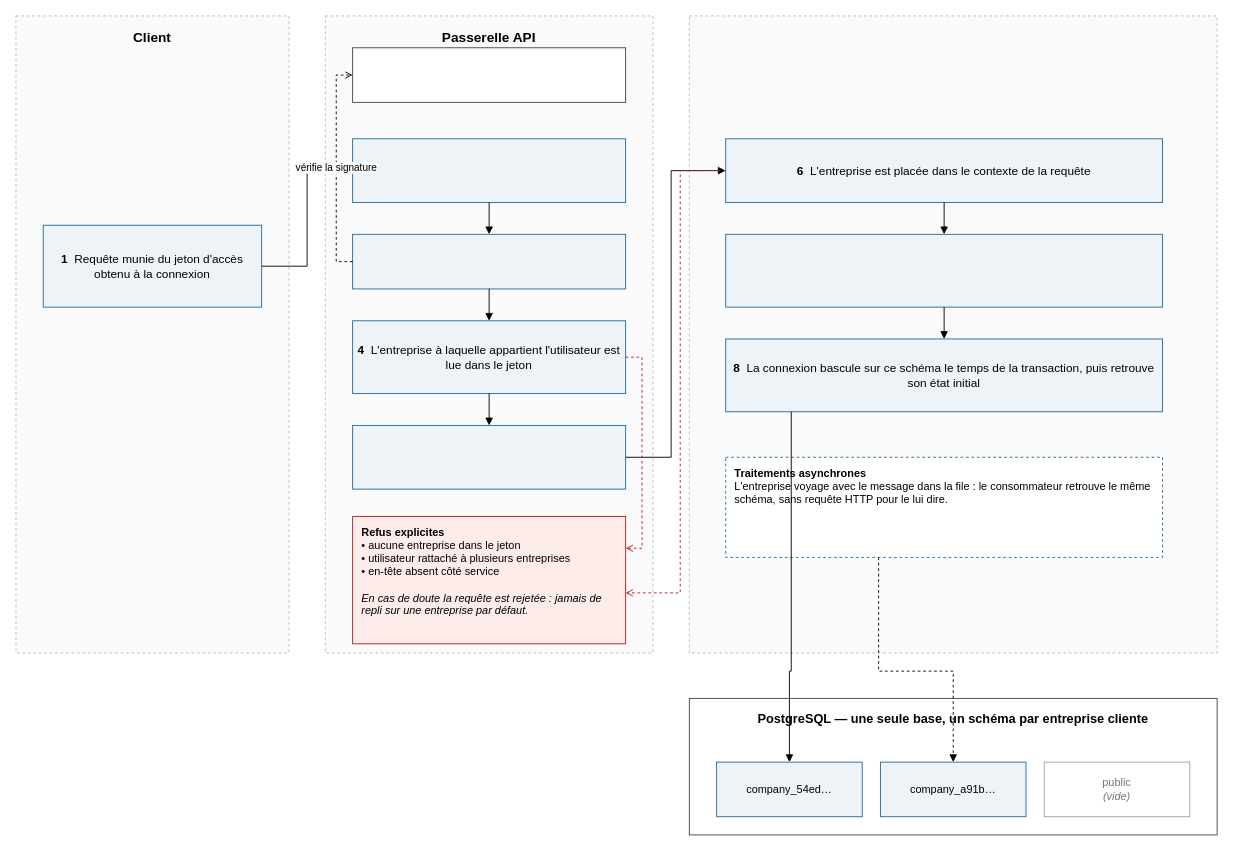
This 1233x851 diagram has some shape labels left out. Each missing label, with the box of its shape:
2 Les en-têtes d'identité fournis par le client sont effacés: (352, 138, 626, 202)
3 Le jeton est vérifié: (352, 233, 626, 289)
5 Elle est transmise au service dans l'en-tête X-Company-Id: (352, 425, 626, 489)
7 Le nom du schéma en est déduit : company_<32 caractères hexadécimaux>: (725, 233, 1163, 307)
Service métier: (688, 15, 1217, 653)
«Système externe» Serveur d'identité: (352, 47, 626, 102)
